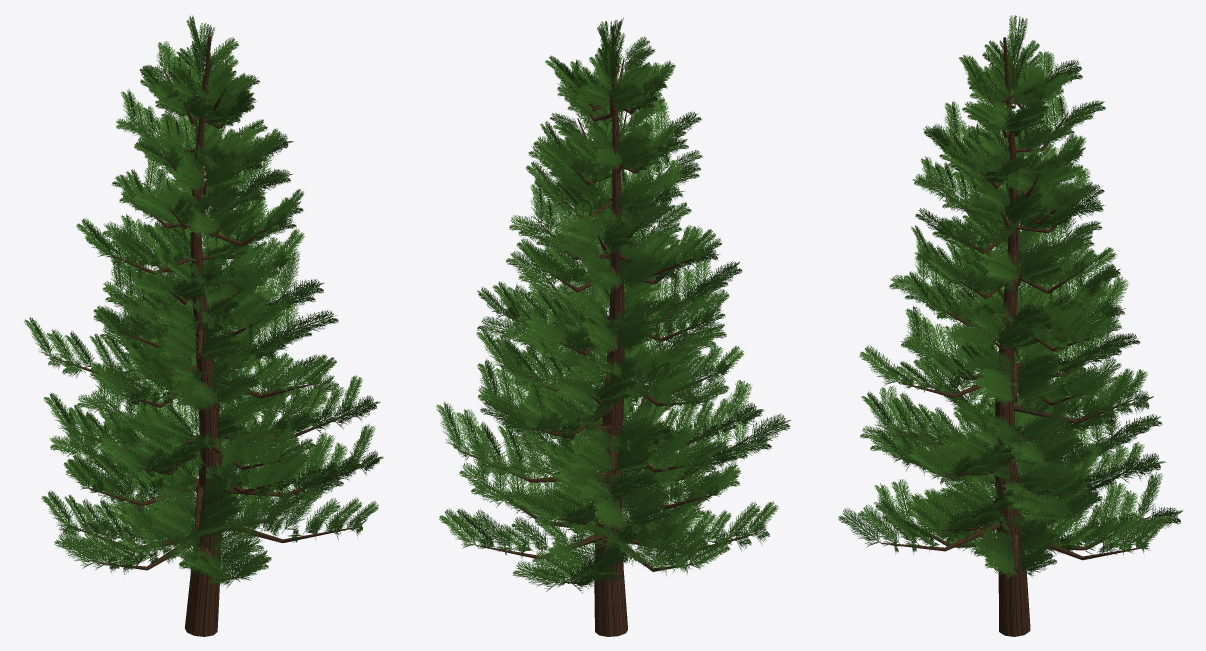
The model's file is Pine_LOD0.fbx.
3 views of the same model, side by side, from view 1: azimuth 30°, elevation 25°; view 2: azimuth 150°, elevation 25°; view 3: azimuth 270°, elevation 25° (orthographic).
Visible parts, largest first — view 1: Pine_LOD0; view 2: Pine_LOD0; view 3: Pine_LOD0.
Part boxes in pixels (left/top/right/bottom): Pine_LOD0: left=24, top=15, right=383, bottom=636; Pine_LOD0: left=436, top=17, right=790, bottom=636; Pine_LOD0: left=838, top=15, right=1182, bottom=636.
Size of the model in its own units: 562 by 1032 by 553.
Materials: 2 (2 with a texture image).
